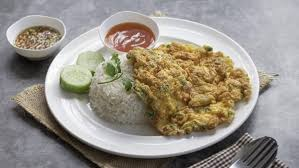Nasi putih: (95, 53, 149, 127)
Telur dadar: (128, 42, 253, 137)
